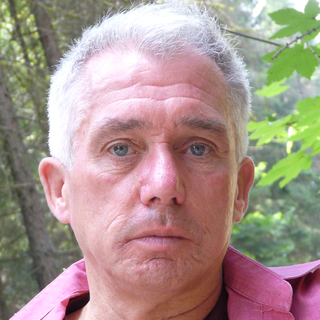eye: (98, 135, 144, 161), (176, 138, 221, 163)
